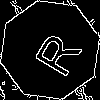R: (25, 25, 83, 80)
